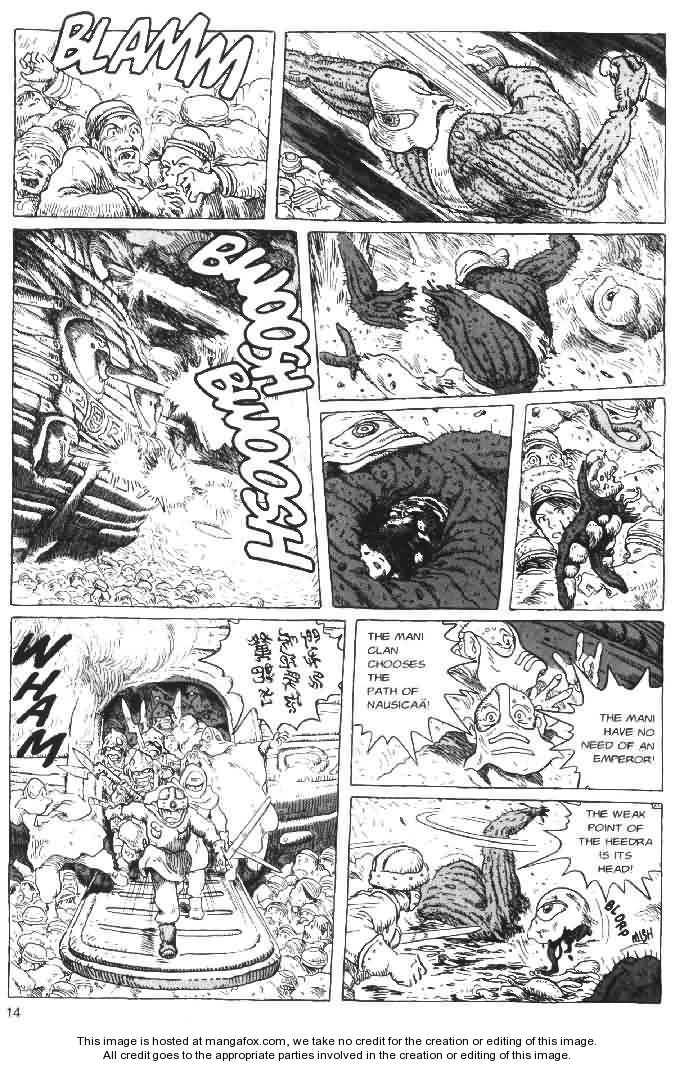Bubble: (353, 619, 481, 766), (534, 654, 664, 792), (198, 618, 345, 737), (516, 800, 663, 903)
